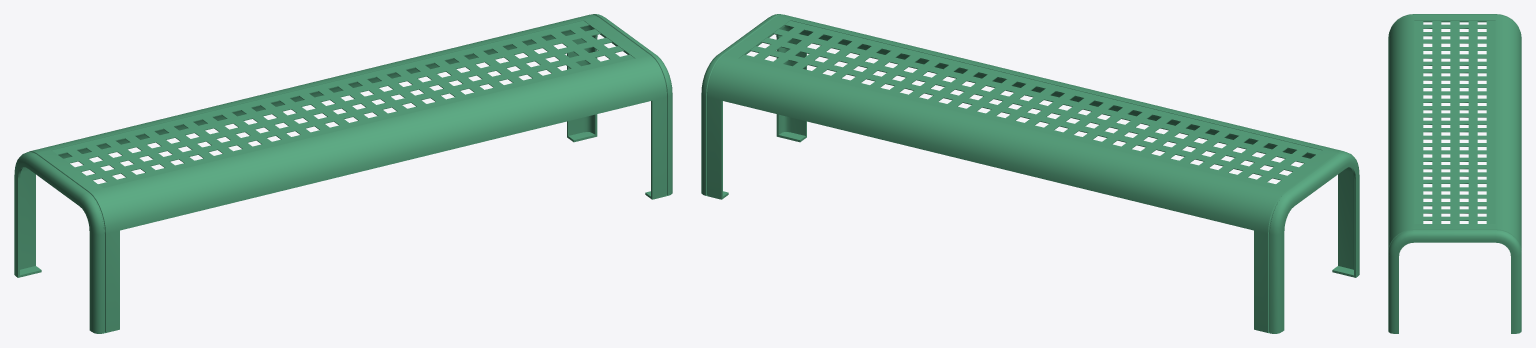
The model's file is seating.glb.
3 views of the same model, side by side, from view 1: azimuth 30°, elevation 25°; view 2: azimuth 150°, elevation 25°; view 3: azimuth 270°, elevation 25° (orthographic). The views are drawn at different scales.
Parts seen in each view (by area): view 1: Street_Bench_metal_square_holes_01; view 2: Street_Bench_metal_square_holes_01; view 3: Street_Bench_metal_square_holes_01.
Part boxes in pixels (bbox=[...]): Street_Bench_metal_square_holes_01: bbox=[14, 14, 672, 333]; Street_Bench_metal_square_holes_01: bbox=[701, 14, 1359, 333]; Street_Bench_metal_square_holes_01: bbox=[1388, 14, 1521, 333].
Bounding box in the file's own units: 2.02 × 0.4314 × 0.5165.
